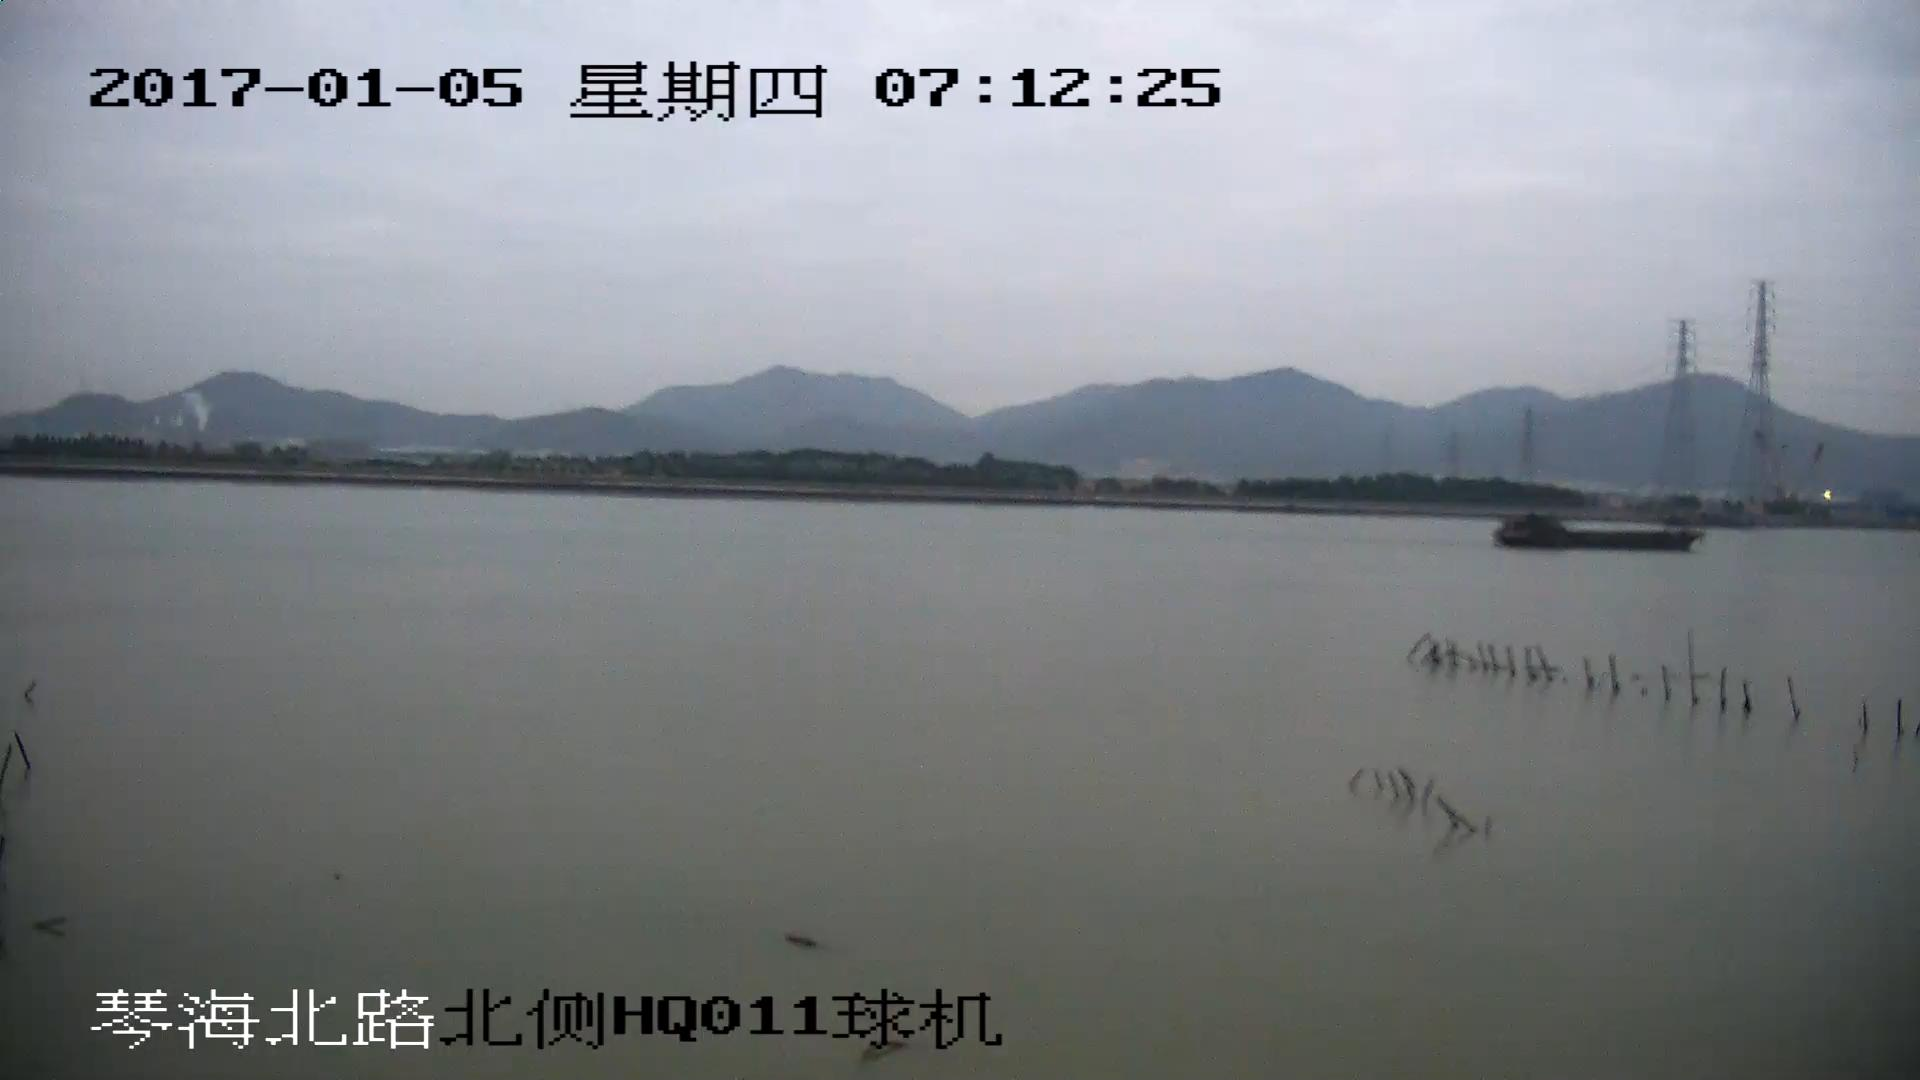bulk cargo carrier: (1493, 514, 1703, 549)
